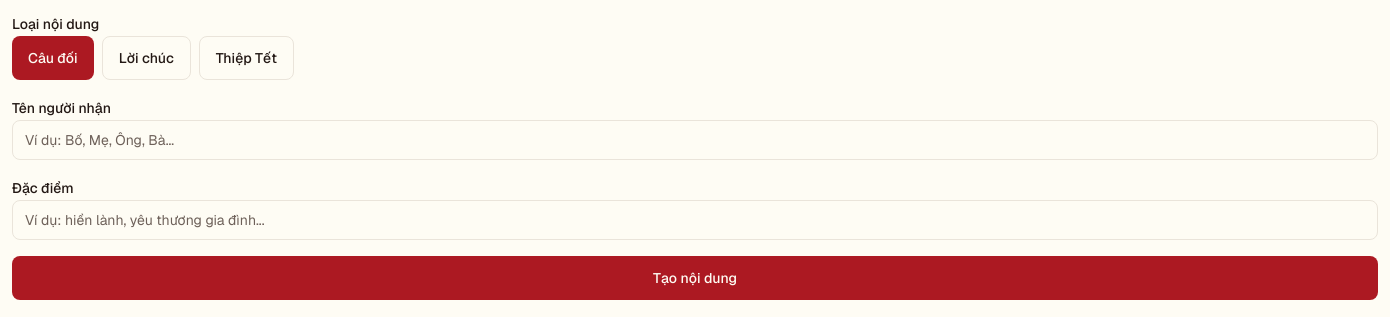
Test: AIContentForm Unit Tests › Loading State › should show loading state during generation
Type "Bố" into the field labelled "Tên người nhận" at (695, 140), box [12,120,1378,160]
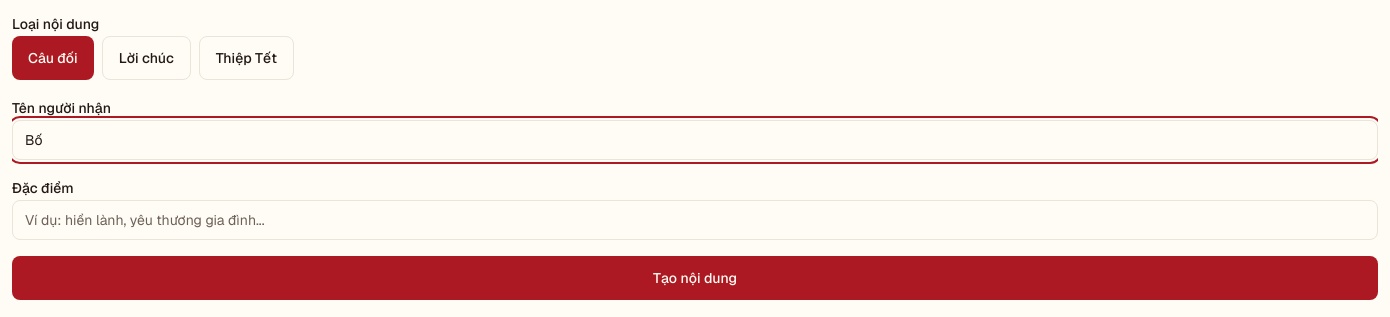
Type "hiền lành" into the field labelled "Đặc điểm" at (695, 220), box [12,200,1378,240]
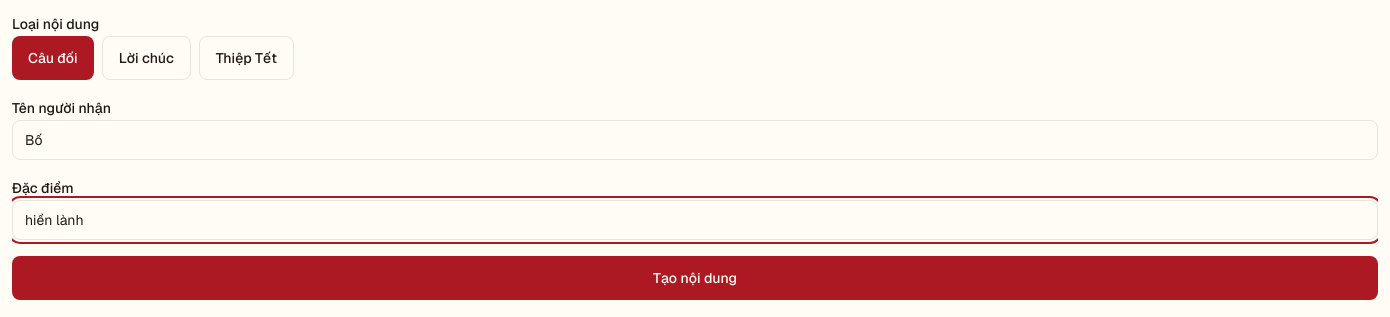
Click the button "Tạo nội dung" at (695, 278), box [12,256,1378,300]
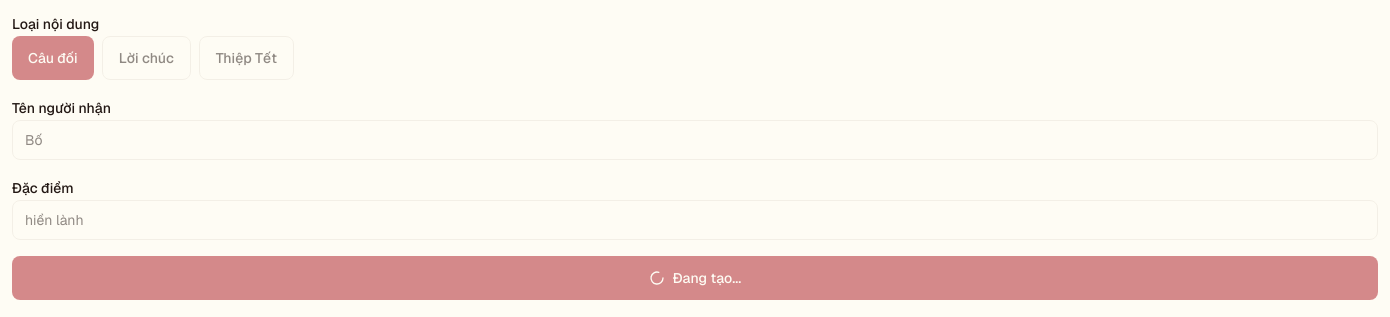
expect the button "Đang tạo..." is disabled: met, box [12,256,1378,300]
